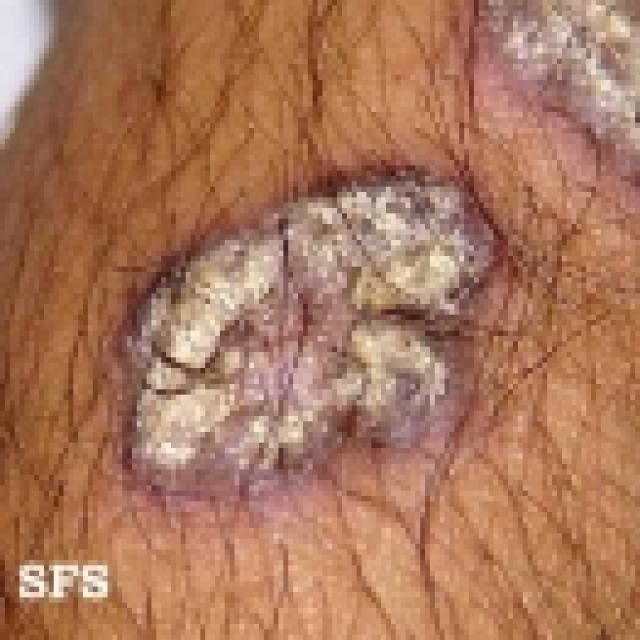lupus: (108, 157, 516, 527)
